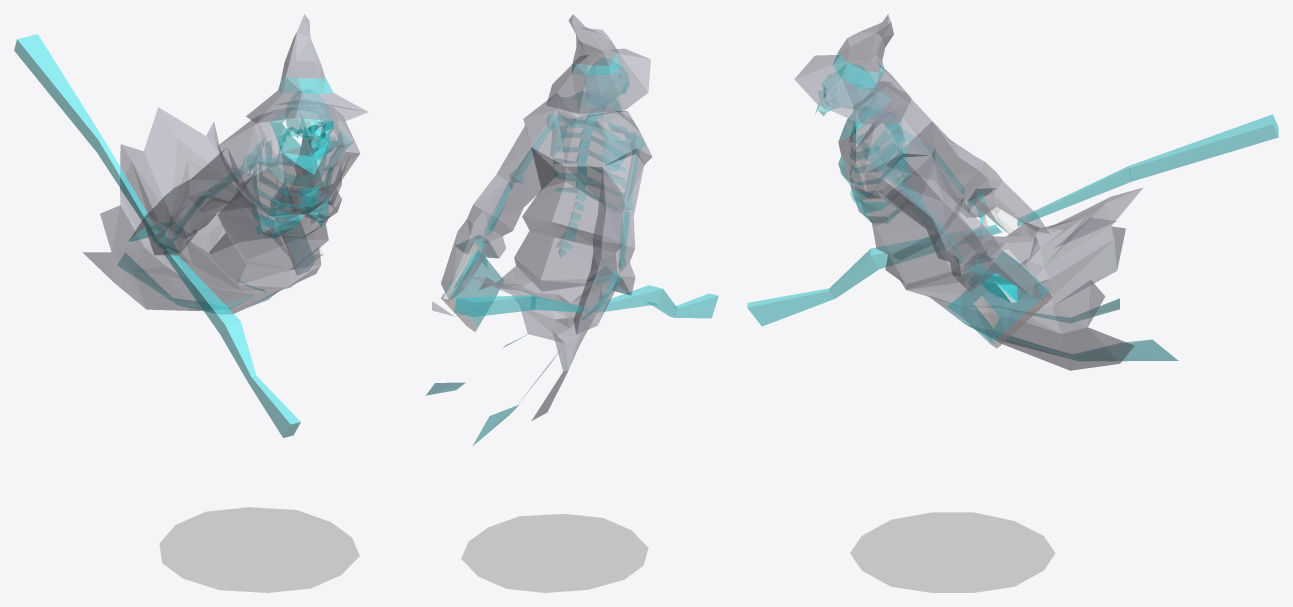
File: soul_magic.glb
3 views of the same model, side by side, from view 1: azimuth 30°, elevation 25°; view 2: azimuth 150°, elevation 25°; view 3: azimuth 270°, elevation 25° (orthographic). The views are drawn at different scales.
Bounding box in the file's own units: 70 × 205 × 181.
Materials: 2 (2 with a texture image).
